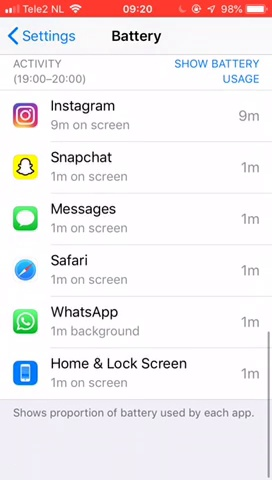activity: (8, 58, 100, 87)
app: (9, 96, 266, 132), (10, 148, 267, 184), (7, 200, 264, 236), (8, 253, 265, 289), (7, 302, 264, 338), (7, 356, 264, 392)
